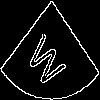W: (25, 25, 72, 92)
